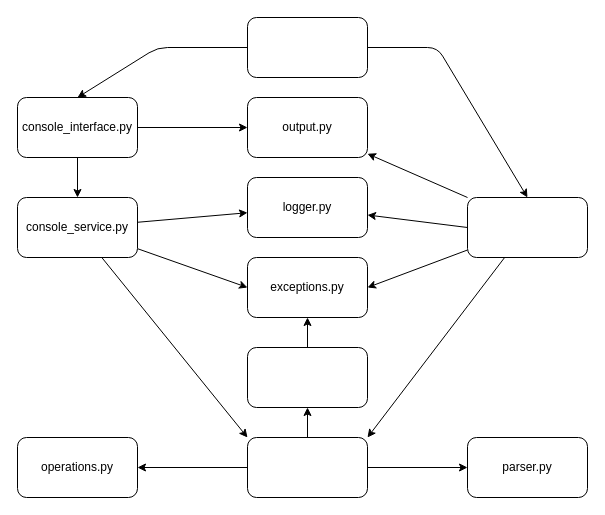
Image size: 605x515. Some labels were removed from this diagram. The centre of each missing label's shape, as x and y in pixels:
main.py: the point at 307,47
service.py: the point at 307,467
tg_bot_service,py: the point at 527,227
validator.py: the point at 307,377
